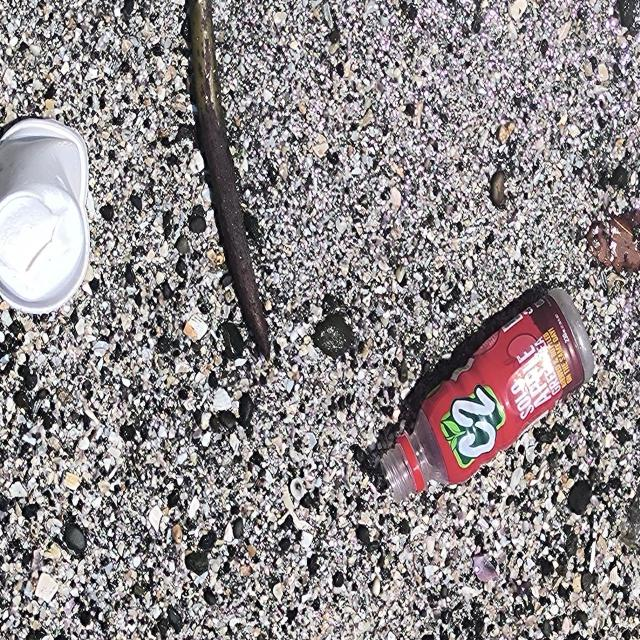plastic_waste: (382, 289, 596, 503)
styrofoam_waste: (1, 120, 91, 319)
